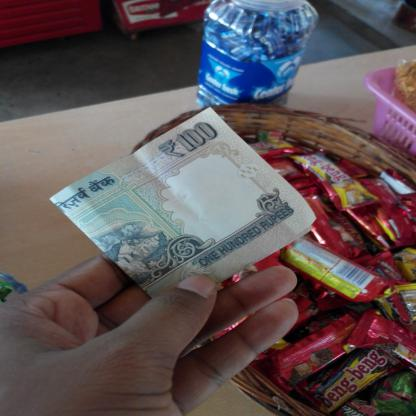Old100Back: (49, 106, 317, 300)
